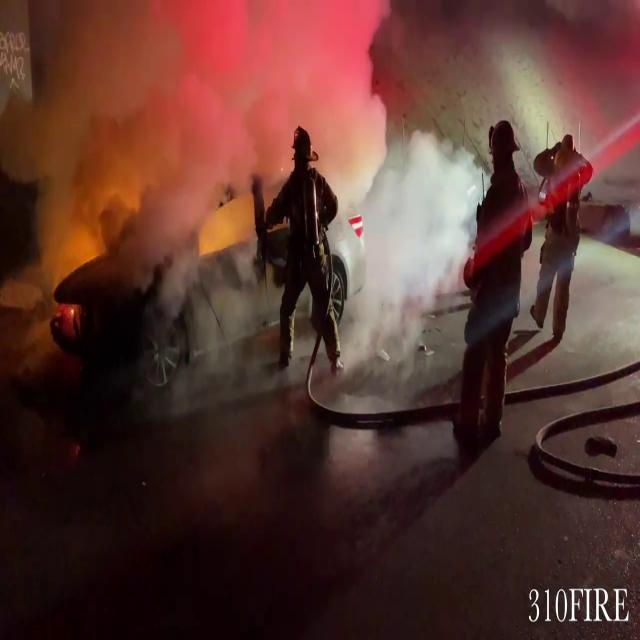Smoke: (3, 0, 454, 303)
